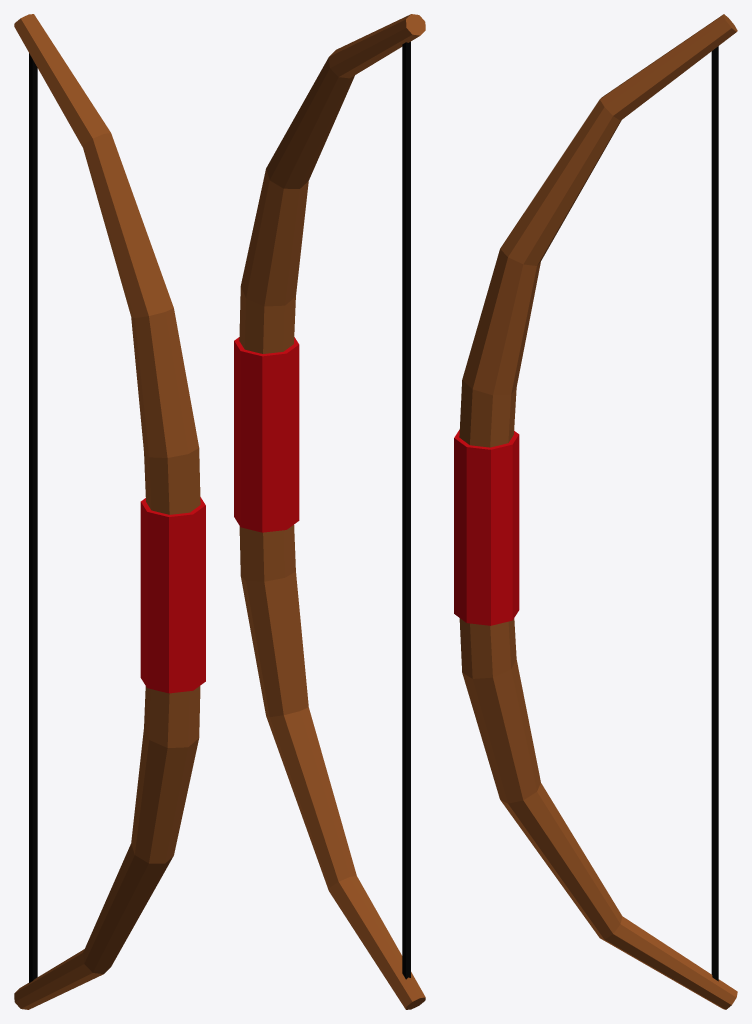
Rendered from Bow.fbx.
3 views of the same model, side by side, from view 1: azimuth 30°, elevation 25°; view 2: azimuth 210°, elevation 25°; view 3: azimuth 270°, elevation 25° (orthographic).
Parts seen in each view (by area): view 1: Bow; view 2: Bow; view 3: Bow.
Part boxes in pixels (x1,y1,x2,y2): Bow: (14,14,205,1009); Bow: (234,14,425,1009); Bow: (454,14,737,1009).
Bounding box in the file's own units: 6.83 × 99.07 × 25.63.
